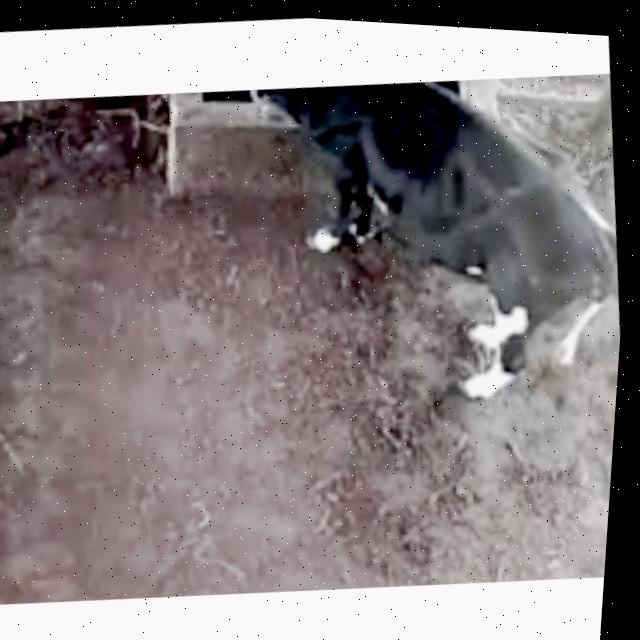drink: (195, 75, 373, 158)
